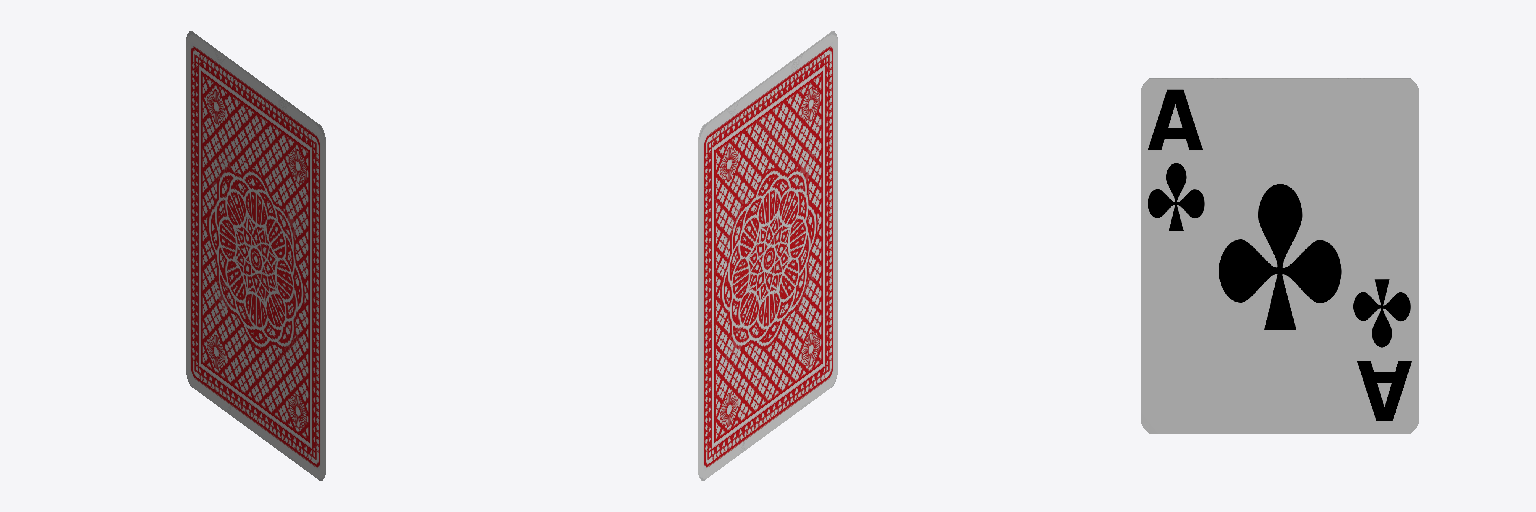
The picture shows the model from 3 angles: view 1: azimuth 30°, elevation 25°; view 2: azimuth 150°, elevation 25°; view 3: azimuth 270°, elevation 25°; orthographic projection.
Parts seen in each view (by area): view 1: Cube; view 2: Cube; view 3: Cube.
Part boxes in pixels (left/top/right/bottom): Cube: left=186, top=31, right=325, bottom=480; Cube: left=698, top=31, right=837, bottom=480; Cube: left=1141, top=78, right=1418, bottom=433.
Size of the model in its own units: 0.0005 by 0.1524 by 0.1085.
Materials: 2 (2 with a texture image).